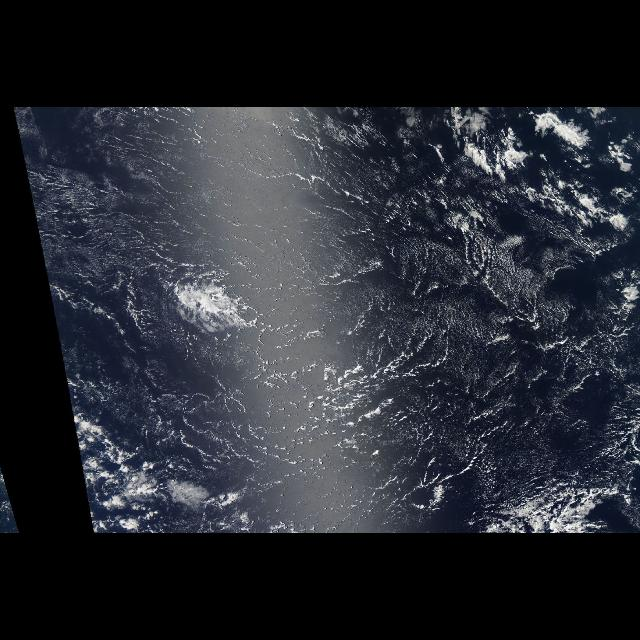Sugar: (12, 108, 638, 458)
